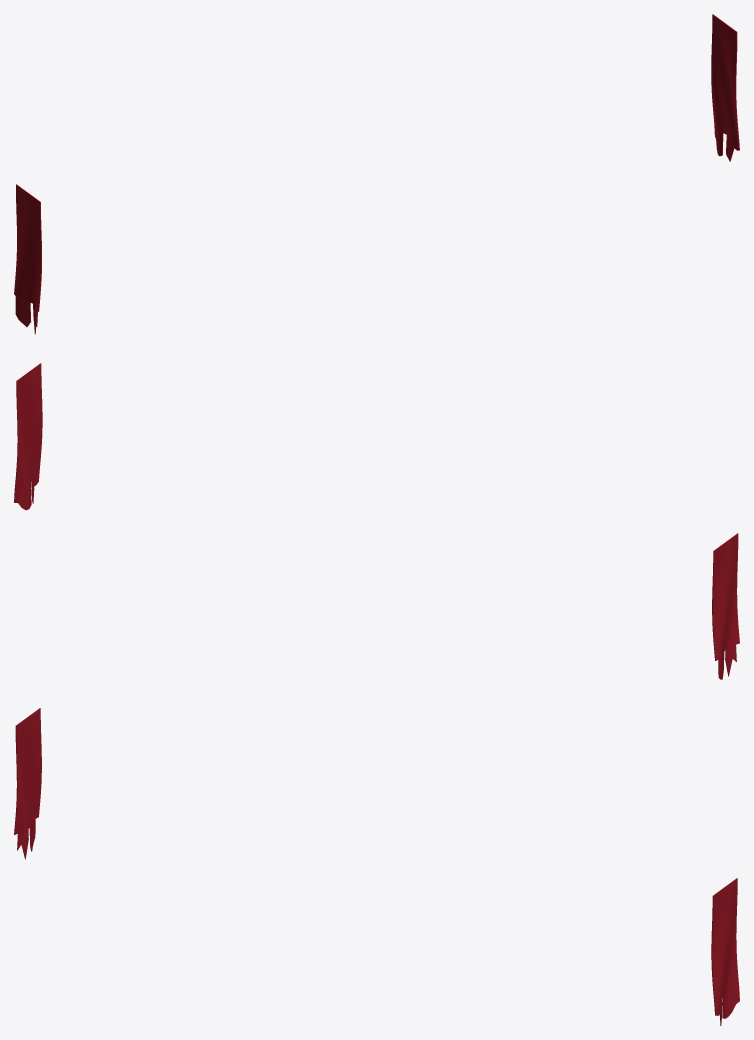
The model's file is Banners.fbx.
3 views of the same model, one above another, from view 1: azimuth 30°, elevation 25°; view 2: azimuth 150°, elevation 25°; view 3: azimuth 330°, elevation 25° (orthographic).
Parts seen in each view (by area): view 1: Banner-1.001; view 2: Banner-1.001; view 3: Banner-1.001.
Part boxes in pixels (x1,y1,x2,y2): Banner-1.001: (14, 14, 739, 334); Banner-1.001: (14, 363, 739, 679); Banner-1.001: (14, 708, 739, 1025).
Size of the model in its own units: 12483 by 2350 by 757.
